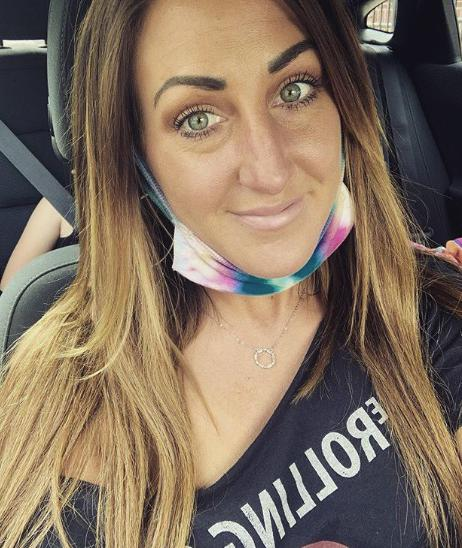mask_weared_incorrect: (163, 43, 337, 298)
